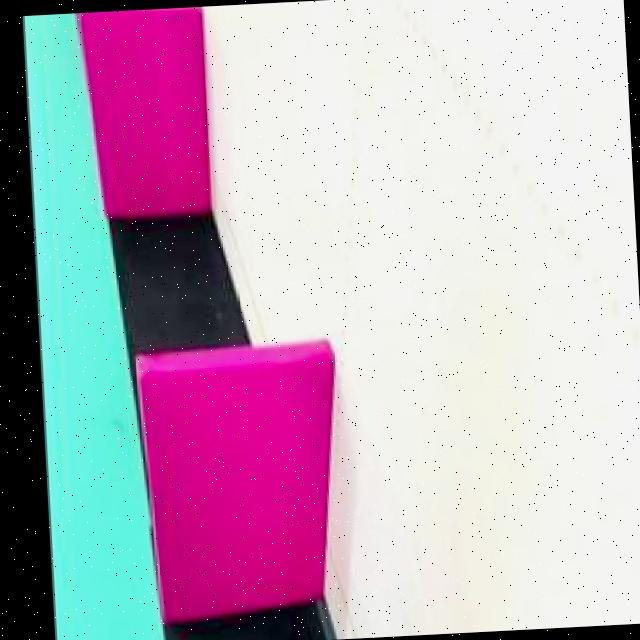xparking: (140, 361, 333, 622), (96, 6, 212, 216)
